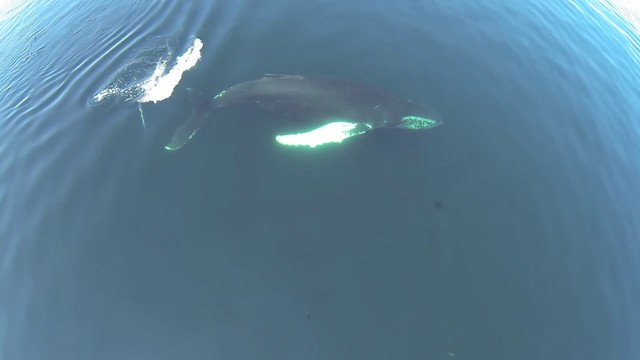whale: (146, 59, 453, 159)
